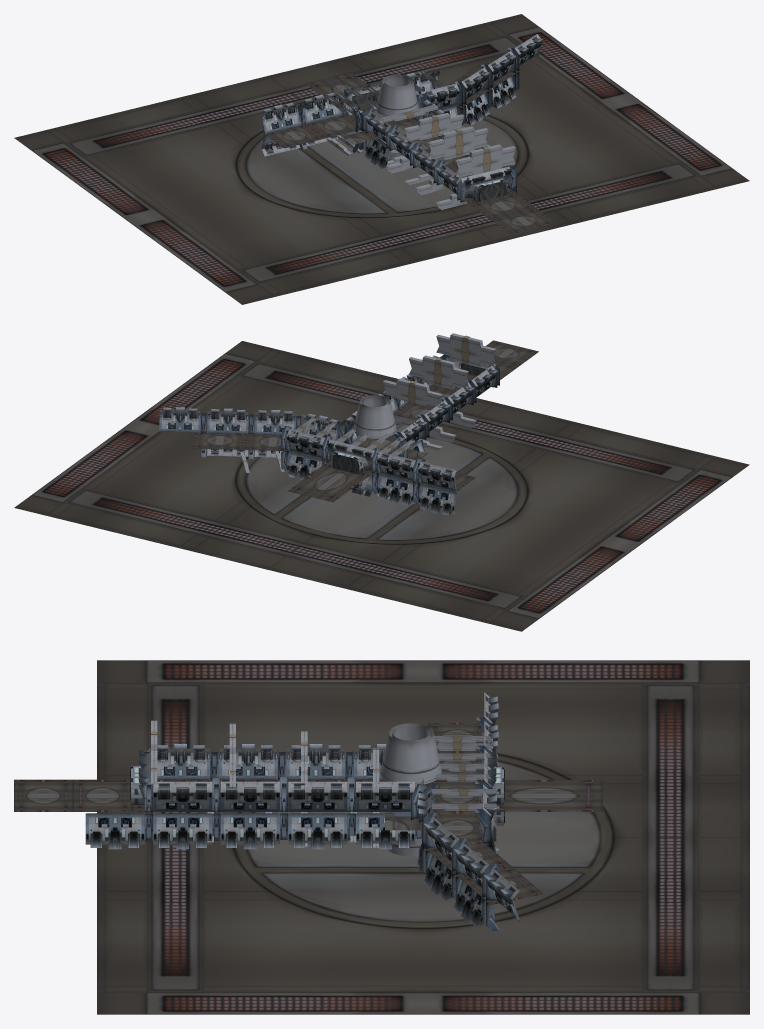
Rendered from env_trade_federation_pre.glb.
The picture shows the model from 3 angles, top to bottom: view 1: azimuth 30°, elevation 25°; view 2: azimuth 150°, elevation 25°; view 3: azimuth 270°, elevation 25°; orthographic projection. The views are drawn at different scales.
Parts seen in each view (by area): view 1: tfed_floor_mesh (23), tfed_ceiling_light_mesh, tfed_wall_02_mesh (12) (×2), tfed_wall_02_mesh (11) (×2), tfed_floor_mesh (13), tfed_floor_mesh (10), tfed_wall_02_mesh (5), tfed_floor_mesh (4), tfed_beam_mesh (11), tfed_beam_mesh (10), tfed_beam_mesh (12), tfed_wall_01_mesh (+8 smaller); view 2: tfed_floor_mesh (23), tfed_floor_mesh (4), tfed_wall_02_mesh (5) (×2), tfed_wall_02_mesh (×2), tfed_ceiling_light_mesh, tfed_wall_02_mesh (14) (×2), tfed_wall_02_mesh (13), tfed_wall_02_mesh (12), tfed_wall_02_mesh (11), tfed_floor_mesh (12), tfed_beam_mesh (12), tfed_beam_mesh (10) (+7 smaller); view 3: tfed_floor_mesh (23), tfed_wall_02_mesh (2) (×3), tfed_wall_02_mesh (4) (×2), tfed_wall_02_mesh (8) (×2), tfed_wall_02_mesh (7) (×2), tfed_wall_02_mesh (3) (×2), tfed_floor_mesh (4), tfed_ceiling_light_mesh, tfed_wall_02_mesh (9), tfed_floor_mesh (13), tfed_floor_mesh (10), tfed_wall_02_mesh (12) (×2) (+9 smaller).
Part boxes in pixels (box(x1,y1,x2,y2)): tfed_floor_mesh (23): box(14, 14, 749, 304); tfed_ceiling_light_mesh: box(376, 74, 418, 116); tfed_wall_02_mesh (12) (×2): box(488, 51, 516, 108); tfed_wall_02_mesh (11) (×2): box(461, 67, 489, 125); tfed_floor_mesh (13): box(490, 208, 556, 234); tfed_floor_mesh (10): box(470, 193, 535, 218); tfed_wall_02_mesh (5): box(262, 103, 300, 134); tfed_floor_mesh (4): box(305, 72, 377, 108); tfed_beam_mesh (11): box(428, 126, 488, 151); tfed_beam_mesh (10): box(404, 112, 464, 138); tfed_beam_mesh (12): box(456, 144, 515, 169); tfed_wall_01_mesh: box(461, 166, 511, 202); tfed_floor_mesh (23): box(14, 341, 749, 631); tfed_floor_mesh (4): box(287, 461, 372, 502); tfed_wall_02_mesh (5) (×2): box(418, 461, 457, 515); tfed_wall_02_mesh (×2): box(377, 451, 415, 505); tfed_ceiling_light_mesh: box(353, 395, 396, 438); tfed_wall_02_mesh (14) (×2): box(286, 429, 324, 479); tfed_wall_02_mesh (13): box(159, 407, 200, 432); tfed_wall_02_mesh (12): box(207, 408, 248, 434); tfed_wall_02_mesh (11): box(254, 410, 295, 434); tfed_floor_mesh (12): box(192, 431, 247, 449); tfed_beam_mesh (12): box(436, 333, 496, 358); tfed_beam_mesh (10): box(383, 378, 442, 403); tfed_floor_mesh (23): box(97, 660, 749, 1014); tfed_wall_02_mesh (2) (×3): box(157, 744, 345, 779); tfed_wall_02_mesh (4) (×2): box(288, 781, 347, 849); tfed_wall_02_mesh (8) (×2): box(153, 781, 212, 849); tfed_wall_02_mesh (7) (×2): box(220, 781, 279, 849); tfed_wall_02_mesh (3) (×2): box(356, 781, 414, 849); tfed_floor_mesh (4): box(489, 780, 602, 811); tfed_ceiling_light_mesh: box(380, 723, 441, 785); tfed_wall_02_mesh (9): box(85, 813, 144, 849); tfed_floor_mesh (13): box(14, 779, 72, 811); tfed_floor_mesh (10): box(73, 779, 132, 811); tfed_wall_02_mesh (12) (×2): box(453, 842, 488, 926).
Bounding box in the file's own units: 99.28 × 17.13 × 87.13.
6 materials, 6 textured.
